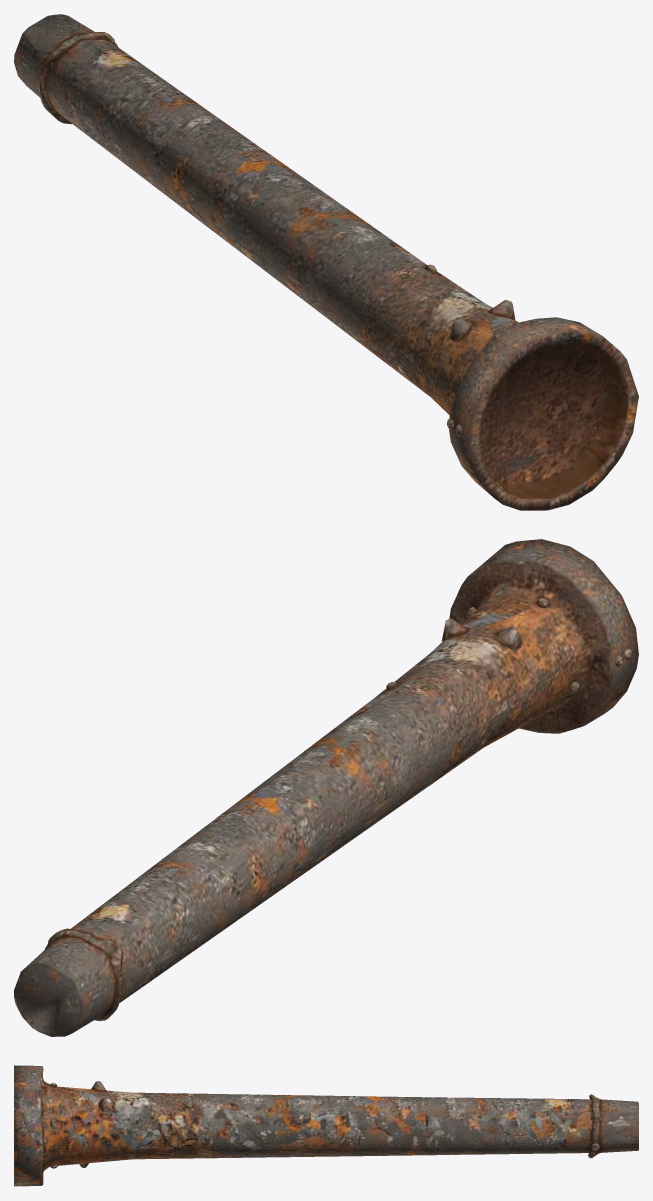
File: prop_pipe.glb
3 views of the same model, one above another, from view 1: azimuth 30°, elevation 25°; view 2: azimuth 150°, elevation 25°; view 3: azimuth 270°, elevation 25° (orthographic). The views are drawn at different scales.
Parts seen in each view (by area): view 1: tripo_node_c71a8ec8-1619-45a9-abab-475d0317009b; view 2: tripo_node_c71a8ec8-1619-45a9-abab-475d0317009b; view 3: tripo_node_c71a8ec8-1619-45a9-abab-475d0317009b.
Part boxes in pixels (x1,y1,x2,y2): tripo_node_c71a8ec8-1619-45a9-abab-475d0317009b: (14, 14, 638, 510); tripo_node_c71a8ec8-1619-45a9-abab-475d0317009b: (14, 539, 638, 1036); tripo_node_c71a8ec8-1619-45a9-abab-475d0317009b: (14, 1065, 638, 1186).
Bounding box in the file's own units: 0.1969 × 0.192 × 1.
1 material, 1 textured.
